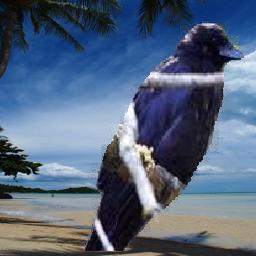Crow: (83, 21, 245, 251)
